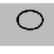no answer: (14, 9, 45, 31)
